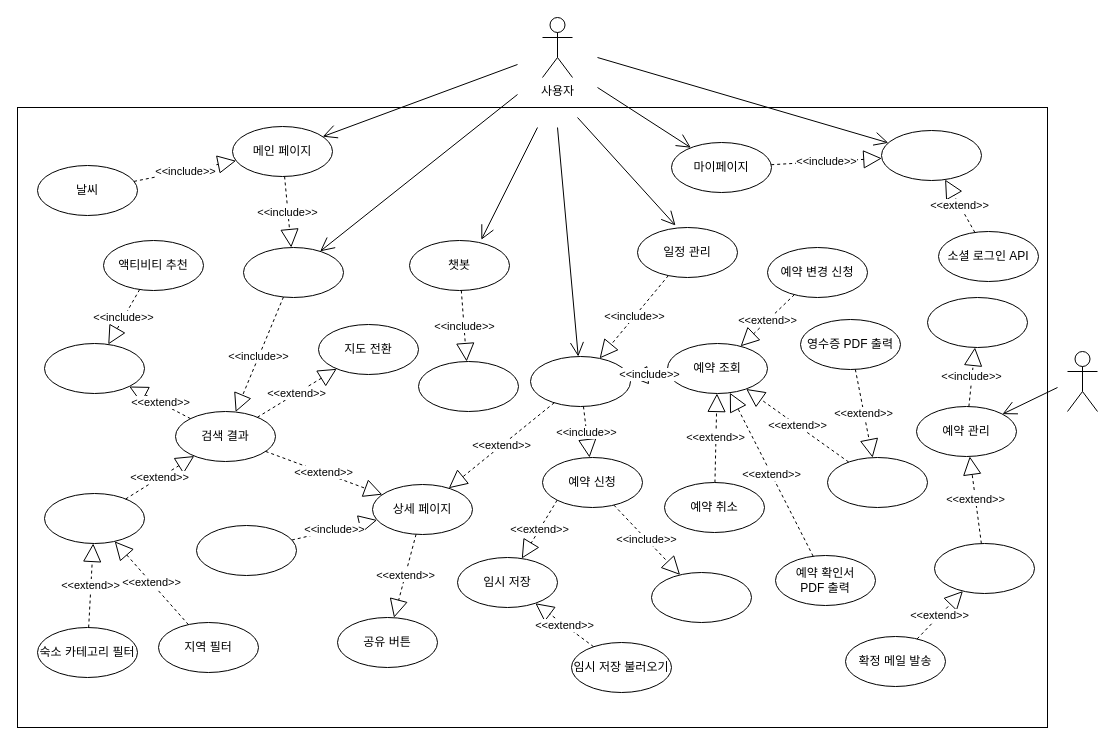
This 1116x745 diagram has some shape labels left out. The shapes that lost their labels are listed below. From the top down, each one's box as (x1, y1, x2, y2) in pixels, then its label:
(880, 130, 982, 180): 로그인
(242, 246, 344, 298): 검색
(926, 296, 1028, 348): 모든 사용자 예약 조회
(44, 342, 144, 394): 숙소 추천
(418, 360, 518, 412): 카카오톡 채널
(530, 356, 630, 406): 예약
(1066, 350, 1098, 412): 관리자
(826, 456, 928, 508): 결제
(44, 492, 144, 544): 숙소/액티비티 필터
(196, 524, 296, 576): 위치 정보
(934, 542, 1034, 594): 예약 검토 및 승인
(650, 572, 752, 622): 예약 정보 입력
